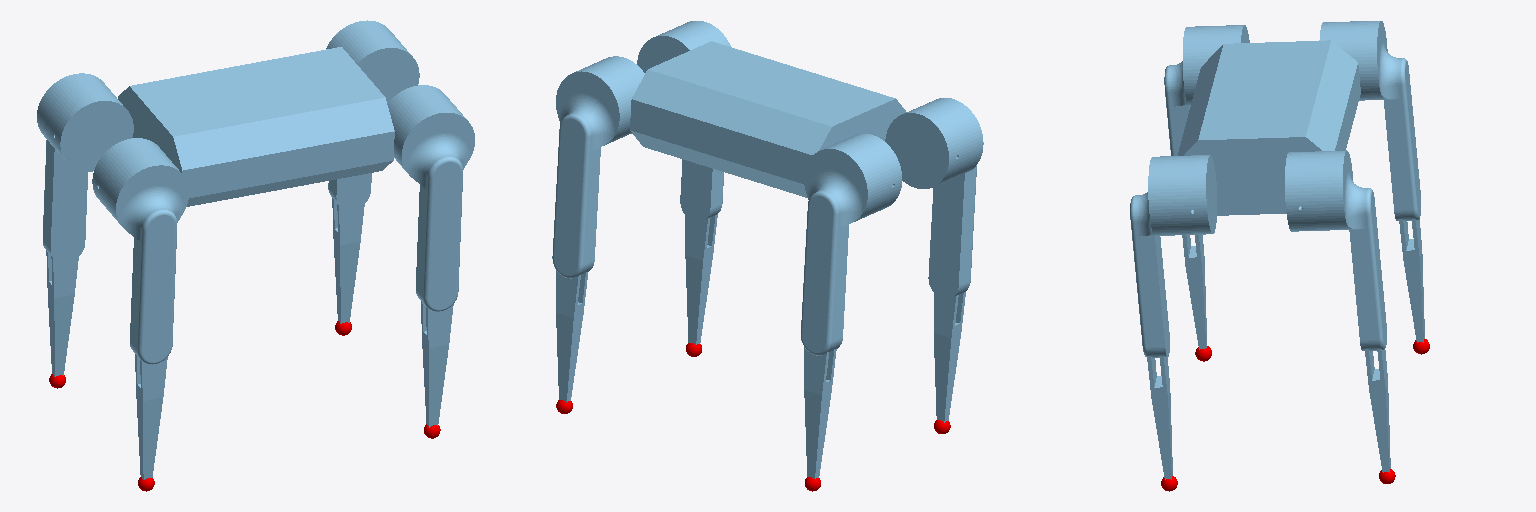
--- What the picture shows (computed from the rendered views, not written in the file) ---
3 views of the same robot in one strip: view 1: azimuth 30°, elevation 25°; view 2: azimuth 150°, elevation 25°; view 3: azimuth 270°, elevation 25° (orthographic).
Robot: astro — 30 links, 29 joints (12 revolute, 17 fixed); root link body_1; default pose: every joint at zero.
Links seen in each view (by area): view 1: body_1_0_body, upper_leg_1_0_upper_leg, upper_leg_3_0_upper_leg, upper_leg_4_0_upper_leg, hip_motor_4_0_hip_motor, hip_motor_2_0_hip_motor, shin_1_0_shin, shin_3_0_shin, shin_2_1_shin, shin_4_1_shin, upper_leg_2_0_upper_leg, hip_motor_1_0_hip_motor (+1 smaller); view 2: body_1_0_body, upper_leg_4_0_upper_leg, upper_leg_2_0_upper_leg, upper_leg_1_0_upper_leg, hip_motor_1_0_hip_motor, shin_4_1_shin, shin_2_1_shin, shin_3_0_shin, shin_1_0_shin, upper_leg_3_0_upper_leg, hip_motor_3_0_hip_motor, hip_motor_4_0_hip_motor (+1 smaller); view 3: body_1_0_body, upper_leg_2_0_upper_leg, upper_leg_4_0_upper_leg, upper_leg_3_0_upper_leg, upper_leg_1_0_upper_leg, hip_motor_3_0_hip_motor, hip_motor_2_0_hip_motor, shin_2_1_shin, shin_4_1_shin, shin_3_0_shin, shin_1_0_shin, hip_motor_1_0_hip_motor (+1 smaller).
Link boxes in pixels (left/top/right/bottom): body_1_0_body: left=118, top=47, right=394, bottom=206; upper_leg_1_0_upper_leg: left=104, top=152, right=188, bottom=364; upper_leg_3_0_upper_leg: left=394, top=99, right=474, bottom=311; upper_leg_4_0_upper_leg: left=37, top=73, right=111, bottom=262; hip_motor_4_0_hip_motor: left=49, top=87, right=133, bottom=171; hip_motor_2_0_hip_motor: left=346, top=34, right=419, bottom=103; shin_1_0_shin: left=135, top=354, right=167, bottom=479; shin_3_0_shin: left=421, top=301, right=453, bottom=427; shin_2_1_shin: left=332, top=198, right=364, bottom=323; shin_4_1_shin: left=46, top=250, right=78, bottom=376; upper_leg_2_0_upper_leg: left=326, top=20, right=399, bottom=209; hip_motor_1_0_hip_motor: left=92, top=138, right=167, bottom=209; body_1_0_body: left=630, top=41, right=906, bottom=197; upper_leg_4_0_upper_leg: left=801, top=141, right=884, bottom=355; upper_leg_2_0_upper_leg: left=552, top=64, right=633, bottom=278; upper_leg_1_0_upper_leg: left=920, top=98, right=983, bottom=299; hip_motor_1_0_hip_motor: left=885, top=105, right=965, bottom=188; shin_4_1_shin: left=804, top=347, right=836, bottom=478; shin_2_1_shin: left=556, top=270, right=587, bottom=402; shin_3_0_shin: left=685, top=214, right=717, bottom=344; shin_1_0_shin: left=934, top=292, right=965, bottom=422; upper_leg_3_0_upper_leg: left=674, top=21, right=730, bottom=221; hip_motor_3_0_hip_motor: left=637, top=28, right=706, bottom=72; hip_motor_4_0_hip_motor: left=841, top=134, right=901, bottom=213; body_1_0_body: left=1178, top=40, right=1360, bottom=215; upper_leg_2_0_upper_leg: left=1314, top=150, right=1386, bottom=350; upper_leg_4_0_upper_leg: left=1348, top=21, right=1420, bottom=220; upper_leg_3_0_upper_leg: left=1130, top=156, right=1182, bottom=357; upper_leg_1_0_upper_leg: left=1164, top=26, right=1214, bottom=155; hip_motor_3_0_hip_motor: left=1177, top=155, right=1216, bottom=234; hip_motor_2_0_hip_motor: left=1285, top=151, right=1319, bottom=231; shin_2_1_shin: left=1365, top=349, right=1390, bottom=472; shin_4_1_shin: left=1399, top=219, right=1424, bottom=342; shin_3_0_shin: left=1147, top=356, right=1172, bottom=479; shin_1_0_shin: left=1182, top=235, right=1206, bottom=349; hip_motor_1_0_hip_motor: left=1211, top=25, right=1249, bottom=55.
Size in the robot's own frame: 0.4881 by 0.3584 by 0.455 metres.
17 mesh visuals loaded from 5 distinct referenced files (5 binary STL).

The robot description file, URDF, robot "astro":
<?xml version="1.0" encoding="utf-8"?>

<robot name="astro">
  <link name="body_1">
    <inertial>
      <origin xyz="0 0 0" rpy="0 0 0"/>
      <mass value="1e-9"/>
      <inertia ixx="0" ixy="0" ixz="0" iyy="0" iyz="0" izz="0"/>
    </inertial>
  </link>

  <link name="body_1_0_body">
    <visual>
      <geometry>
        <mesh filename="package://astro_description/meshes/body.stl"/>
      </geometry>
      <material name="body_1_0_body_material">
        <color rgba="0.615686 0.811765 0.929412 1.0"/>
      </material>
    </visual>
    <collision>
      <geometry>
        <mesh filename="package://astro_description/meshes/body.stl"/>
      </geometry>
      <material name="body_1_0_body_material">
        <color rgba="0.615686 0.811765 0.929412 1.0"/>
      </material>
    </collision>
    <inertial>
      <origin xyz="3.23514e-17 -1.57563e-17 7.22909e-19" rpy="0 0 0"/>
      <mass value="5.53043"/>
      <inertia ixx="0.0182567" ixy="0" ixz="0" iyy="0.039027" iyz="0" izz="0.0489361"/>
    </inertial>
  </link>

  <joint name="body_1_body_1_0_body_fixing" type="fixed">
    <origin xyz="0.0659972 -0.00223125 -0.0325887" rpy="0.0869049 -2.22293e-16 -0.110998"/>
    <parent link="body_1"/>
    <child link="body_1_0_body"/>
    <axis xyz="0 0 0"/>
  </joint>

  <link name="hip_motor_1">
    <inertial>
      <origin xyz="0 0 0" rpy="0 0 0"/>
      <mass value="1e-9"/>
      <inertia ixx="0" ixy="0" ixz="0" iyy="0" iyz="0" izz="0"/>
    </inertial>
  </link>

  <link name="hip_motor_1_0_hip_motor">
    <visual>
      <geometry>
        <mesh filename="package://astro_description/meshes/hip_motor.stl"/>
      </geometry>
      <material name="hip_motor_1_0_hip_motor_material">
        <color rgba="0.615686 0.811765 0.929412 1.0"/>
      </material>
    </visual>
    <collision>
      <geometry>
        <mesh filename="package://astro_description/meshes/hip_motor.stl"/>
      </geometry>
      <material name="hip_motor_1_0_hip_motor_material">
        <color rgba="0.615686 0.811765 0.929412 1.0"/>
      </material>
    </collision>
    <inertial>
      <origin xyz="1.13446e-11 -2.52228e-11 5.19814e-10" rpy="0 0 0"/>
      <mass value="0.290543"/>
      <inertia ixx="0.000328594" ixy="-2.04303e-13" ixz="2.49012e-14" iyy="0.000195003" iyz="-1.8485e-14" izz="0.000193353"/>
    </inertial>
  </link>

  <joint name="hip_motor_1_hip_motor_1_0_hip_motor_fixing" type="fixed">
    <origin xyz="0 0.0480708 0" rpy="1.04339e-18 8.23223e-18 1.45984e-18"/>
    <parent link="hip_motor_1"/>
    <child link="hip_motor_1_0_hip_motor"/>
    <axis xyz="0 0 0"/>
  </joint>

  <link name="upper_leg_1">
    <inertial>
      <origin xyz="0 0 0" rpy="0 0 0"/>
      <mass value="1e-9"/>
      <inertia ixx="0" ixy="0" ixz="0" iyy="0" iyz="0" izz="0"/>
    </inertial>
  </link>

  <link name="upper_leg_1_0_upper_leg">
    <visual>
      <geometry>
        <mesh filename="package://astro_description/meshes/upper_leg.stl"/>
      </geometry>
      <material name="upper_leg_1_0_upper_leg_material">
        <color rgba="0.615686 0.811765 0.929412 1.0"/>
      </material>
    </visual>
    <collision>
      <geometry>
        <mesh filename="package://astro_description/meshes/upper_leg.stl"/>
      </geometry>
      <material name="upper_leg_1_0_upper_leg_material">
        <color rgba="0.615686 0.811765 0.929412 1.0"/>
      </material>
    </collision>
    <inertial>
      <origin xyz="-0.0158653 -0.0518927 2.91082e-08" rpy="0 0 0"/>
      <mass value="0.599558"/>
      <inertia ixx="0.00301503" ixy="-0.000481164" ixz="-1.17508e-10" iyy="0.00041169" iyz="-1.99021e-10" izz="0.00299142"/>
    </inertial>
  </link>

  <joint name="upper_leg_1_upper_leg_1_0_upper_leg_fixing" type="fixed">
    <origin xyz="-0.0175 6.93889e-18 -1.38778e-17" rpy="-1.17711e-18 9.47393e-18 7.38261e-18"/>
    <parent link="upper_leg_1"/>
    <child link="upper_leg_1_0_upper_leg"/>
    <axis xyz="0 0 0"/>
  </joint>

  <link name="shin_1">
    <inertial>
      <origin xyz="0 0 0" rpy="0 0 0"/>
      <mass value="1e-9"/>
      <inertia ixx="0" ixy="0" ixz="0" iyy="0" iyz="0" izz="0"/>
    </inertial>
  </link>

  <link name="shin_1_0_shin">
    <visual>
      <geometry>
        <mesh filename="package://astro_description/meshes/shin.stl"/>
      </geometry>
      <material name="shin_1_0_shin_material">
        <color rgba="0.615686 0.811765 0.929412 1.0"/>
      </material>
    </visual>
    <collision>
      <geometry>
        <mesh filename="package://astro_description/meshes/shin.stl"/>
      </geometry>
      <material name="shin_1_0_shin_material">
        <color rgba="0.615686 0.811765 0.929412 1.0"/>
      </material>
    </collision>
    <inertial>
      <origin xyz="1.75032e-18 -2.35773e-05 -0.0854768" rpy="0 0 0"/>
      <mass value="0.0649774"/>
      <inertia ixx="0.000128996" ixy="0" ixz="0" iyy="0.000127636" iyz="4.44939e-08" izz="5.60423e-06"/>
    </inertial>
  </link>

  <joint name="shin_1_shin_1_0_shin_fixing" type="fixed">
    <origin xyz="-0.01 1.38778e-17 0" rpy="3.46903e-19 1.08811e-18 -4.69955e-18"/>
    <parent link="shin_1"/>
    <child link="shin_1_0_shin"/>
    <axis xyz="0 0 0"/>
  </joint>

  <link name="shin_1_1_toe">
    <visual>
      <geometry>
        <mesh filename="package://astro_description/meshes/toe.stl"/>
      </geometry>
      <material name="shin_1_1_toe_material">
        <color rgba="1 0 0 1.0"/>
      </material>
    </visual>
    <collision>
      <geometry>
        <mesh filename="package://astro_description/meshes/toe.stl"/>
      </geometry>
      <material name="shin_1_1_toe_material">
        <color rgba="1 0 0 1.0"/>
      </material>
    </collision>
    <inertial>
      <origin xyz="2.95606e-11 -9.95771e-12 0.00105178" rpy="0 0 0"/>
      <mass value="0.00402782"/>
      <inertia ixx="1.62265e-07" ixy="-3.71722e-16" ixz="1.01732e-15" iyy="1.58984e-07" iyz="-3.30423e-16" izz="1.84918e-07"/>
    </inertial>
  </link>

  <joint name="shin_1_shin_1_1_toe_fixing" type="fixed">
    <origin xyz="-0.01 -5.55112e-17 -0.19" rpy="-3.14159 -3.17881e-17 1.5708"/>
    <parent link="shin_1"/>
    <child link="shin_1_1_toe"/>
    <axis xyz="0 0 0"/>
  </joint>

  <joint name="knee_3" type="revolute">
    <origin xyz="-0.059 -0.1875 -2.22045e-16" rpy="1.5708 -1.36245e-17 -3.14159"/>
    <parent link="upper_leg_1"/>
    <child link="shin_1"/>
    <axis xyz="-1 0 0"/>
    <limit effort="1.5" lower="-3.14" upper="3.14" velocity="22"/>
    <joint_properties friction="0.0"/>
  </joint>

  <joint name="hip_flexion_2" type="revolute">
    <origin xyz="0.0175 0.0480708 2.08167e-17" rpy="1.5708 -1.25268e-17 3.14159"/>
    <parent link="hip_motor_1"/>
    <child link="upper_leg_1"/>
    <axis xyz="-1 0 0"/>
    <limit effort="1.5" lower="-3.14" upper="3.14" velocity="22"/>
    <joint_properties friction="0.0"/>
  </joint>

  <joint name="hip_abduction_1" type="revolute">
    <origin xyz="-0.172812 -0.0407702 -0.0382304" rpy="-1.54573e-16 0.0869049 -1.68179"/>
    <parent link="body_1"/>
    <child link="hip_motor_1"/>
    <axis xyz="0 -1 0"/>
    <limit effort="1.5" lower="-3.14" upper="3.14" velocity="22"/>
    <joint_properties friction="0.0"/>
  </joint>

  <link name="hip_motor_2">
    <inertial>
      <origin xyz="0 0 0" rpy="0 0 0"/>
      <mass value="1e-9"/>
      <inertia ixx="0" ixy="0" ixz="0" iyy="0" iyz="0" izz="0"/>
    </inertial>
  </link>

  <link name="hip_motor_2_0_hip_motor">
    <visual>
      <geometry>
        <mesh filename="package://astro_description/meshes/hip_motor.stl"/>
      </geometry>
      <material name="hip_motor_2_0_hip_motor_material">
        <color rgba="0.615686 0.811765 0.929412 1.0"/>
      </material>
    </visual>
    <collision>
      <geometry>
        <mesh filename="package://astro_description/meshes/hip_motor.stl"/>
      </geometry>
      <material name="hip_motor_2_0_hip_motor_material">
        <color rgba="0.615686 0.811765 0.929412 1.0"/>
      </material>
    </collision>
    <inertial>
      <origin xyz="1.13446e-11 -2.52228e-11 5.19814e-10" rpy="0 0 0"/>
      <mass value="0.290543"/>
      <inertia ixx="0.000328594" ixy="-2.04303e-13" ixz="2.49012e-14" iyy="0.000195003" iyz="-1.8485e-14" izz="0.000193353"/>
    </inertial>
  </link>

  <joint name="hip_motor_2_hip_motor_2_0_hip_motor_fixing" type="fixed">
    <origin xyz="0 -0.0480708 0" rpy="-8.65295e-20 -5.65305e-18 5.77025e-18"/>
    <parent link="hip_motor_2"/>
    <child link="hip_motor_2_0_hip_motor"/>
    <axis xyz="0 0 0"/>
  </joint>

  <link name="upper_leg_2">
    <inertial>
      <origin xyz="0 0 0" rpy="0 0 0"/>
      <mass value="1e-9"/>
      <inertia ixx="0" ixy="0" ixz="0" iyy="0" iyz="0" izz="0"/>
    </inertial>
  </link>

  <link name="upper_leg_2_0_upper_leg">
    <visual>
      <geometry>
        <mesh filename="package://astro_description/meshes/upper_leg.stl"/>
      </geometry>
      <material name="upper_leg_2_0_upper_leg_material">
        <color rgba="0.615686 0.811765 0.929412 1.0"/>
      </material>
    </visual>
    <collision>
      <geometry>
        <mesh filename="package://astro_description/meshes/upper_leg.stl"/>
      </geometry>
      <material name="upper_leg_2_0_upper_leg_material">
        <color rgba="0.615686 0.811765 0.929412 1.0"/>
      </material>
    </collision>
    <inertial>
      <origin xyz="-0.0158653 -0.0518927 2.91082e-08" rpy="0 0 0"/>
      <mass value="0.599558"/>
      <inertia ixx="0.00301503" ixy="-0.000481164" ixz="-1.17508e-10" iyy="0.00041169" iyz="-1.99021e-10" izz="0.00299142"/>
    </inertial>
  </link>

  <joint name="upper_leg_2_upper_leg_2_0_upper_leg_fixing" type="fixed">
    <origin xyz="-0.0175 6.93889e-18 0" rpy="-2.76055e-19 -1.21531e-18 6.83835e-18"/>
    <parent link="upper_leg_2"/>
    <child link="upper_leg_2_0_upper_leg"/>
    <axis xyz="0 0 0"/>
  </joint>

  <link name="shin_2">
    <inertial>
      <origin xyz="0 0 0" rpy="0 0 0"/>
      <mass value="1e-9"/>
      <inertia ixx="0" ixy="0" ixz="0" iyy="0" iyz="0" izz="0"/>
    </inertial>
  </link>

  <link name="shin_2_0_toe">
    <visual>
      <geometry>
        <mesh filename="package://astro_description/meshes/toe.stl"/>
      </geometry>
      <material name="shin_2_0_toe_material">
        <color rgba="1 0 0 1.0"/>
      </material>
    </visual>
    <collision>
      <geometry>
        <mesh filename="package://astro_description/meshes/toe.stl"/>
      </geometry>
      <material name="shin_2_0_toe_material">
        <color rgba="1 0 0 1.0"/>
      </material>
    </collision>
    <inertial>
      <origin xyz="2.95606e-11 -9.95771e-12 0.00105178" rpy="0 0 0"/>
      <mass value="0.00402782"/>
      <inertia ixx="1.62265e-07" ixy="-3.71722e-16" ixz="1.01732e-15" iyy="1.58984e-07" iyz="-3.30423e-16" izz="1.84918e-07"/>
    </inertial>
  </link>

  <joint name="shin_2_shin_2_0_toe_fixing" type="fixed">
    <origin xyz="0.01 -2.77556e-16 -0.19" rpy="-3.14159 5.28839e-17 1.5708"/>
    <parent link="shin_2"/>
    <child link="shin_2_0_toe"/>
    <axis xyz="0 0 0"/>
  </joint>

  <link name="shin_2_1_shin">
    <visual>
      <geometry>
        <mesh filename="package://astro_description/meshes/shin.stl"/>
      </geometry>
      <material name="shin_2_1_shin_material">
        <color rgba="0.615686 0.811765 0.929412 1.0"/>
      </material>
    </visual>
    <collision>
      <geometry>
        <mesh filename="package://astro_description/meshes/shin.stl"/>
      </geometry>
      <material name="shin_2_1_shin_material">
        <color rgba="0.615686 0.811765 0.929412 1.0"/>
      </material>
    </collision>
    <inertial>
      <origin xyz="1.75032e-18 -2.35773e-05 -0.0854768" rpy="0 0 0"/>
      <mass value="0.0649774"/>
      <inertia ixx="0.000128996" ixy="0" ixz="0" iyy="0.000127636" iyz="4.44939e-08" izz="5.60423e-06"/>
    </inertial>
  </link>

  <joint name="shin_2_shin_2_1_shin_fixing" type="fixed">
    <origin xyz="0.01 -5.55112e-17 -2.77556e-17" rpy="6.6556e-19 -9.04247e-18 -5.58114e-18"/>
    <parent link="shin_2"/>
    <child link="shin_2_1_shin"/>
    <axis xyz="0 0 0"/>
  </joint>

  <joint name="knee_9" type="revolute">
    <origin xyz="-0.059 -0.1875 -2.22045e-16" rpy="-1.5708 2.70978e-17 3.54843e-17"/>
    <parent link="upper_leg_2"/>
    <child link="shin_2"/>
    <axis xyz="-1 0 0"/>
    <limit effort="1.5" lower="-3.14" upper="3.14" velocity="22"/>
    <joint_properties friction="0.0"/>
  </joint>

  <joint name="hip_flexion_8" type="revolute">
    <origin xyz="-0.0175 -0.0480708 6.93889e-18" rpy="1.5708 -3.48751e-17 2.21214e-14"/>
    <parent link="hip_motor_2"/>
    <child link="upper_leg_2"/>
    <axis xyz="-1 0 0"/>
    <limit effort="1.5" lower="-3.14" upper="3.14" velocity="22"/>
    <joint_properties friction="0.0"/>
  </joint>

  <joint name="hip_abduction_7" type="revolute">
    <origin xyz="0.304807 0.0363077 -0.0269469" rpy="4.43804e-16 0.0869049 -1.68179"/>
    <parent link="body_1"/>
    <child link="hip_motor_2"/>
    <axis xyz="0 -1 0"/>
    <limit effort="1.5" lower="-3.14" upper="3.14" velocity="22"/>
    <joint_properties friction="0.0"/>
  </joint>

  <link name="hip_motor_3">
    <inertial>
      <origin xyz="0 0 0" rpy="0 0 0"/>
      <mass value="1e-9"/>
      <inertia ixx="0" ixy="0" ixz="0" iyy="0" iyz="0" izz="0"/>
    </inertial>
  </link>

  <link name="hip_motor_3_0_hip_motor">
    <visual>
      <geometry>
        <mesh filename="package://astro_description/meshes/hip_motor.stl"/>
      </geometry>
      <material name="hip_motor_3_0_hip_motor_material">
        <color rgba="0.615686 0.811765 0.929412 1.0"/>
      </material>
    </visual>
    <collision>
      <geometry>
        <mesh filename="package://astro_description/meshes/hip_motor.stl"/>
      </geometry>
      <material name="hip_motor_3_0_hip_motor_material">
        <color rgba="0.615686 0.811765 0.929412 1.0"/>
      </material>
    </collision>
    <inertial>
      <origin xyz="1.13446e-11 -2.52228e-11 5.19814e-10" rpy="0 0 0"/>
      <mass value="0.290543"/>
      <inertia ixx="0.000328594" ixy="-2.04303e-13" ixz="2.49012e-14" iyy="0.000195003" iyz="-1.8485e-14" izz="0.000193353"/>
    </inertial>
  </link>

  <joint name="hip_motor_3_hip_motor_3_0_hip_motor_fixing" type="fixed">
    <origin xyz="0 -0.0480708 -6.93889e-18" rpy="-5.00683e-19 -5.97818e-18 1.20234e-17"/>
    <parent link="hip_motor_3"/>
    <child link="hip_motor_3_0_hip_motor"/>
    <axis xyz="0 0 0"/>
  </joint>

  <link name="upper_leg_3">
    <inertial>
      <origin xyz="0 0 0" rpy="0 0 0"/>
      <mass value="1e-9"/>
      <inertia ixx="0" ixy="0" ixz="0" iyy="0" iyz="0" izz="0"/>
    </inertial>
  </link>

  <link name="upper_leg_3_0_upper_leg">
    <visual>
      <geometry>
        <mesh filename="package://astro_description/meshes/upper_leg.stl"/>
      </geometry>
      <material name="upper_leg_3_0_upper_leg_material">
        <color rgba="0.615686 0.811765 0.929412 1.0"/>
      </material>
    </visual>
    <collision>
      <geometry>
        <mesh filename="package://astro_description/meshes/upper_leg.stl"/>
      </geometry>
      <material name="upper_leg_3_0_upper_leg_material">
        <color rgba="0.615686 0.811765 0.929412 1.0"/>
      </material>
    </collision>
    <inertial>
      <origin xyz="-0.0158653 -0.0518927 2.91082e-08" rpy="0 0 0"/>
      <mass value="0.599558"/>
      <inertia ixx="0.00301503" ixy="-0.000481164" ixz="-1.17508e-10" iyy="0.00041169" iyz="-1.99021e-10" izz="0.00299142"/>
    </inertial>
  </link>

  <joint name="upper_leg_3_upper_leg_3_0_upper_leg_fixing" type="fixed">
    <origin xyz="0.010165 0 0" rpy="-6.67825e-20 -1.15115e-17 9.5296e-18"/>
    <parent link="upper_leg_3"/>
    <child link="upper_leg_3_0_upper_leg"/>
    <axis xyz="0 0 0"/>
  </joint>

  <link name="shin_3">
    <inertial>
      <origin xyz="0 0 0" rpy="0 0 0"/>
      <mass value="1e-9"/>
      <inertia ixx="0" ixy="0" ixz="0" iyy="0" iyz="0" izz="0"/>
    </inertial>
  </link>

  <link name="shin_3_0_shin">
    <visual>
      <geometry>
        <mesh filename="package://astro_description/meshes/shin.stl"/>
      </geometry>
      <material name="shin_3_0_shin_material">
        <color rgba="0.615686 0.811765 0.929412 1.0"/>
      </material>
    </visual>
    <collision>
      <geometry>
        <mesh filename="package://astro_description/meshes/shin.stl"/>
      </geometry>
      <material name="shin_3_0_shin_material">
        <color rgba="0.615686 0.811765 0.929412 1.0"/>
      </material>
    </collision>
    <inertial>
      <origin xyz="1.75032e-18 -2.35773e-05 -0.0854768" rpy="0 0 0"/>
      <mass value="0.0649774"/>
      <inertia ixx="0.000128996" ixy="0" ixz="0" iyy="0.000127636" iyz="4.44939e-08" izz="5.60423e-06"/>
    </inertial>
  </link>

  <joint name="shin_3_shin_3_0_shin_fixing" type="fixed">
    <origin xyz="-0.007525 0 0" rpy="4.64757e-19 8.95694e-18 -1.28169e-17"/>
    <parent link="shin_3"/>
    <child link="shin_3_0_shin"/>
    <axis xyz="0 0 0"/>
  </joint>

  <link name="shin_3_1_toe">
    <visual>
      <geometry>
        <mesh filename="package://astro_description/meshes/toe.stl"/>
      </geometry>
      <material name="shin_3_1_toe_material">
        <color rgba="1 0 0 1.0"/>
      </material>
    </visual>
    <collision>
      <geometry>
        <mesh filename="package://astro_description/meshes/toe.stl"/>
      </geometry>
      <material name="shin_3_1_toe_material">
        <color rgba="1 0 0 1.0"/>
      </material>
    </collision>
    <inertial>
      <origin xyz="2.95606e-11 -9.95771e-12 0.00105178" rpy="0 0 0"/>
      <mass value="0.00402782"/>
      <inertia ixx="1.62265e-07" ixy="-3.71722e-16" ixz="1.01732e-15" iyy="1.58984e-07" iyz="-3.30423e-16" izz="1.84918e-07"/>
    </inertial>
  </link>

  <joint name="shin_3_shin_3_1_toe_fixing" type="fixed">
    <origin xyz="-0.007525 1.11022e-16 -0.19" rpy="3.14159 1.26855e-15 1.5708"/>
    <parent link="shin_3"/>
    <child link="shin_3_1_toe"/>
    <axis xyz="0 0 0"/>
  </joint>

  <joint name="knee_12" type="revolute">
    <origin xyz="-0.02886 -0.1875 -1.66533e-16" rpy="1.5708 -5.52594e-18 3.14159"/>
    <parent link="upper_leg_3"/>
    <child link="shin_3"/>
    <axis xyz="-1 0 0"/>
    <limit effort="1.5" lower="-3.14" upper="3.14" velocity="22"/>
    <joint_properties friction="0.0"/>
  </joint>

  <joint name="hip_flexion_11" type="revolute">
    <origin xyz="0.045165 -0.0480708 -5.55112e-17" rpy="1.5708 -1.83741e-17 3.14159"/>
    <parent link="hip_motor_3"/>
    <child link="upper_leg_3"/>
    <axis xyz="-1 0 0"/>
    <limit effort="1.5" lower="-3.14" upper="3.14" velocity="22"/>
    <joint_properties friction="0.0"/>
  </joint>

  <joint name="hip_abduction_10" type="revolute">
    <origin xyz="0.290461 -0.0924047 -0.0382304" rpy="2.23135e-16 0.0869049 -1.68179"/>
    <parent link="body_1"/>
    <child link="hip_motor_3"/>
    <axis xyz="0 -1 0"/>
    <limit effort="1.5" lower="-3.14" upper="3.14" velocity="22"/>
    <joint_properties friction="0.0"/>
  </joint>

  <link name="hip_motor_4">
    <inertial>
      <origin xyz="0 0 0" rpy="0 0 0"/>
      <mass value="1e-9"/>
      <inertia ixx="0" ixy="0" ixz="0" iyy="0" iyz="0" izz="0"/>
    </inertial>
  </link>

  <link name="hip_motor_4_0_hip_motor">
    <visual>
      <geometry>
        <mesh filename="package://astro_description/meshes/hip_motor.stl"/>
      </geometry>
      <material name="hip_motor_4_0_hip_motor_material">
        <color rgba="0.615686 0.811765 0.929412 1.0"/>
      </material>
    </visual>
    <collision>
      <geometry>
        <mesh filename="package://astro_description/meshes/hip_motor.stl"/>
      </geometry>
      <material name="hip_motor_4_0_hip_motor_material">
        <color rgba="0.615686 0.811765 0.929412 1.0"/>
      </material>
    </collision>
    <inertial>
      <origin xyz="1.13446e-11 -2.52228e-11 5.19814e-10" rpy="0 0 0"/>
      <mass value="0.290543"/>
      <inertia ixx="0.000328594" ixy="-2.04303e-13" ixz="2.49012e-14" iyy="0.000195003" iyz="-1.8485e-14" izz="0.000193353"/>
    </inertial>
  </link>

  <joint name="hip_motor_4_hip_motor_4_0_hip_motor_fixing" type="fixed">
    <origin xyz="-1.38778e-17 0.0480708 0" rpy="-1.27595e-19 -4.38734e-18 -1.85754e-17"/>
    <parent link="hip_motor_4"/>
    <child link="hip_motor_4_0_hip_motor"/>
    <axis xyz="0 0 0"/>
  </joint>

  <link name="upper_leg_4">
    <inertial>
      <origin xyz="0 0 0" rpy="0 0 0"/>
      <mass value="1e-9"/>
      <inertia ixx="0" ixy="0" ixz="0" iyy="0" iyz="0" izz="0"/>
    </inertial>
  </link>

  <link name="upper_leg_4_0_upper_leg">
    <visual>
      <geometry>
        <mesh filename="package://astro_description/meshes/upper_leg.stl"/>
      </geometry>
      <material name="upper_leg_4_0_upper_leg_material">
        <color rgba="0.615686 0.811765 0.929412 1.0"/>
      </material>
    </visual>
    <collision>
      <geometry>
        <mesh filename="package://astro_description/meshes/upper_leg.stl"/>
      </geometry>
      <material name="upper_leg_4_0_upper_leg_material">
        <color rgba="0.615686 0.811765 0.929412 1.0"/>
      </material>
    </collision>
    <inertial>
      <origin xyz="-0.0158653 -0.0518927 2.91082e-08" rpy="0 0 0"/>
      <mass value="0.599558"/>
      <inertia ixx="0.00301503" ixy="-0.000481164" ixz="-1.17508e-10" iyy="0.00041169" iyz="-1.99021e-10" izz="0.00299142"/>
    </inertial>
  </link>

  <joint name="upper_leg_4_upper_leg_4_0_upper_leg_fixing" type="fixed">
    <origin xyz="0.03783 6.93889e-18 -1.38778e-17" rpy="-5.22828e-19 5.483e-18 -1.89147e-17"/>
    <parent link="upper_leg_4"/>
    <child link="upper_leg_4_0_upper_leg"/>
    <axis xyz="0 0 0"/>
  </joint>

  <link name="shin_4">
    <inertial>
      <origin xyz="0 0 0" rpy="0 0 0"/>
      <mass value="1e-9"/>
      <inertia ixx="0" ixy="0" ixz="0" iyy="0" iyz="0" izz="0"/>
    </inertial>
  </link>

  <link name="shin_4_0_toe">
    <visual>
      <geometry>
        <mesh filename="package://astro_description/meshes/toe.stl"/>
      </geometry>
      <material name="shin_4_0_toe_material">
        <color rgba="1 0 0 1.0"/>
      </material>
    </visual>
    <collision>
      <geometry>
        <mesh filename="package://astro_description/meshes/toe.stl"/>
      </geometry>
      <material name="shin_4_0_toe_material">
        <color rgba="1 0 0 1.0"/>
      </material>
    </collision>
    <inertial>
      <origin xyz="2.95606e-11 -9.95771e-12 0.00105178" rpy="0 0 0"/>
      <mass value="0.00402782"/>
      <inertia ixx="1.62265e-07" ixy="-3.71722e-16" ixz="1.01732e-15" iyy="1.58984e-07" iyz="-3.30423e-16" izz="1.84918e-07"/>
    </inertial>
  </link>

  <joint name="shin_4_shin_4_0_toe_fixing" type="fixed">
    <origin xyz="0.007525 1.94289e-16 -0.19" rpy="3.14159 -9.92892e-17 1.5708"/>
    <parent link="shin_4"/>
    <child link="shin_4_0_toe"/>
    <axis xyz="0 0 0"/>
  </joint>

  <link name="shin_4_1_shin">
    <visual>
      <geometry>
        <mesh filename="package://astro_description/meshes/shin.stl"/>
      </geometry>
      <material name="shin_4_1_shin_material">
        <color rgba="0.615686 0.811765 0.929412 1.0"/>
      </material>
    </visual>
    <collision>
      <geometry>
        <mesh filename="package://astro_description/meshes/shin.stl"/>
      </geometry>
      <material name="shin_4_1_shin_material">
        <color rgba="0.615686 0.811765 0.929412 1.0"/>
      </material>
    </collision>
    <inertial>
      <origin xyz="1.75032e-18 -2.35773e-05 -0.0854768" rpy="0 0 0"/>
      <mass value="0.0649774"/>
      <inertia ixx="0.000128996" ixy="0" ixz="0" iyy="0.000127636" iyz="4.44939e-08" izz="5.60423e-06"/>
    </inertial>
  </link>

  <joint name="shin_4_shin_4_1_shin_fixing" type="fixed">
    <origin xyz="0.007525 0 0" rpy="-4.76449e-19 2.20057e-18 -3.22122e-18"/>
    <parent link="shin_4"/>
    <child link="shin_4_1_shin"/>
    <axis xyz="0 0 0"/>
  </joint>

  <joint name="knee_6" type="revolute">
    <origin xyz="-0.001195 -0.1875 -2.22045e-16" rpy="-1.5708 -3.10391e-16 -8.40794e-16"/>
    <parent link="upper_leg_4"/>
    <child link="shin_4"/>
    <axis xyz="-1 0 0"/>
    <limit effort="1.5" lower="-3.14" upper="3.14" velocity="22"/>
    <joint_properties friction="0.0"/>
  </joint>

  <joint name="hip_flexion_5" type="revolute">
    <origin xyz="0.07283 0.0480708 -1.04083e-16" rpy="-1.5708 -5.20821e-16 -3.14159"/>
    <parent link="hip_motor_4"/>
    <child link="upper_leg_4"/>
    <axis xyz="-1 0 0"/>
    <limit effort="1.5" lower="-3.14" upper="3.14" velocity="22"/>
    <joint_properties friction="0.0"/>
  </joint>
  
  <joint name="hip_abduction_4" type="revolute">
    <origin xyz="-0.158466 0.0879422 -0.0269469" rpy="3.14159 -0.0869049 1.4598"/>
    <parent link="body_1"/>
    <child link="hip_motor_4"/>
    <axis xyz="0 -1 0"/>
    <limit effort="1.5" lower="-3.14" upper="3.14" velocity="22"/>
    <joint_properties friction="0.0"/>
  </joint>
</robot>
